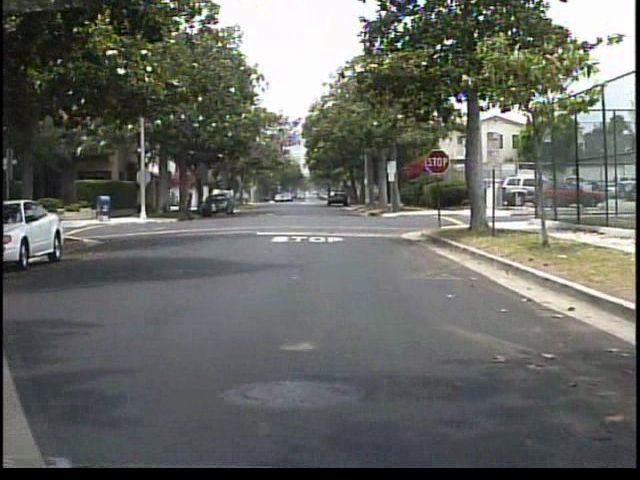person: (179, 179, 202, 223)
